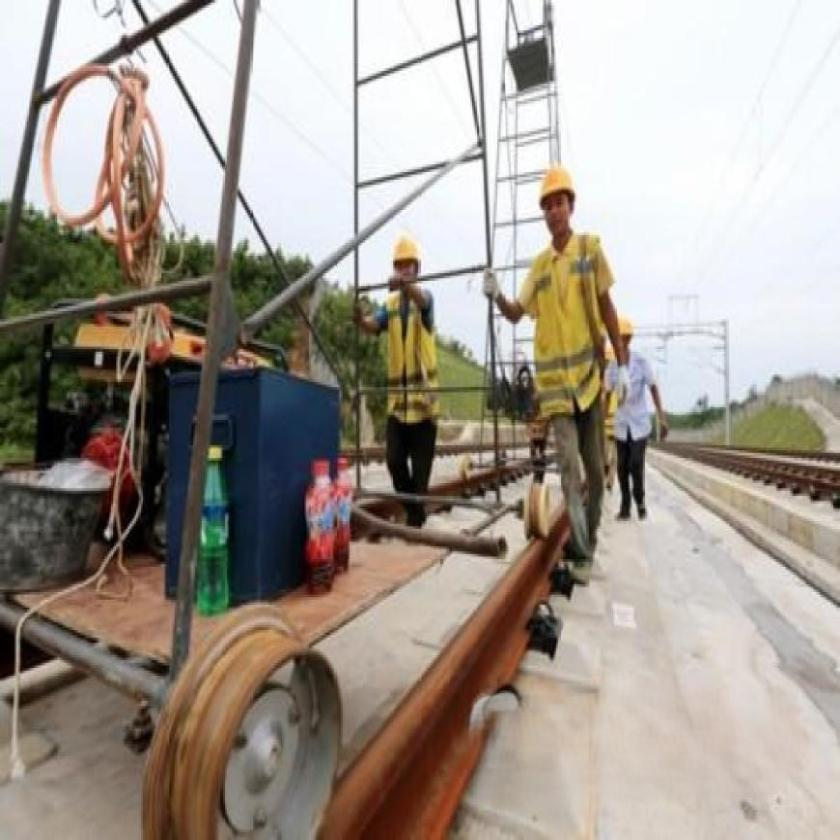Con_casco: (530, 154, 579, 248)
